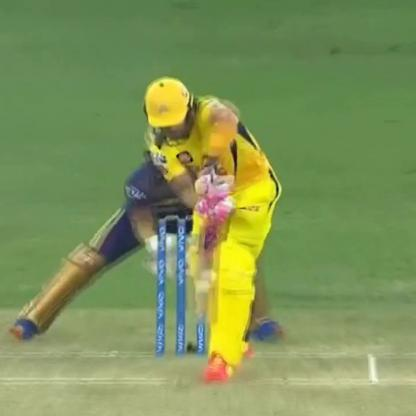ball: (199, 261, 217, 283), (192, 278, 214, 295)
bat: (185, 191, 229, 325)
pitch: (2, 322, 416, 416)
